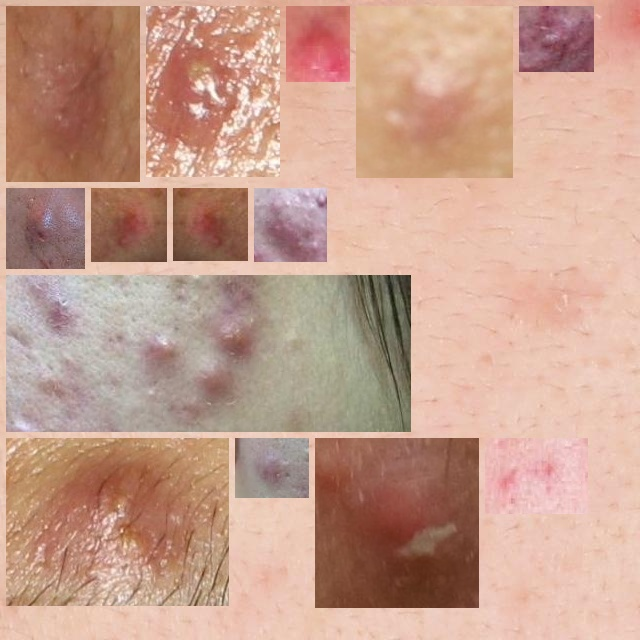nodule: (14, 283, 498, 424), (14, 446, 221, 598), (323, 446, 471, 600), (364, 14, 505, 170), (14, 14, 132, 174), (154, 14, 272, 169), (493, 446, 580, 506), (14, 196, 77, 261), (99, 196, 159, 254), (181, 196, 240, 253), (262, 196, 319, 254), (527, 14, 586, 64), (294, 14, 342, 74), (243, 446, 301, 490)
